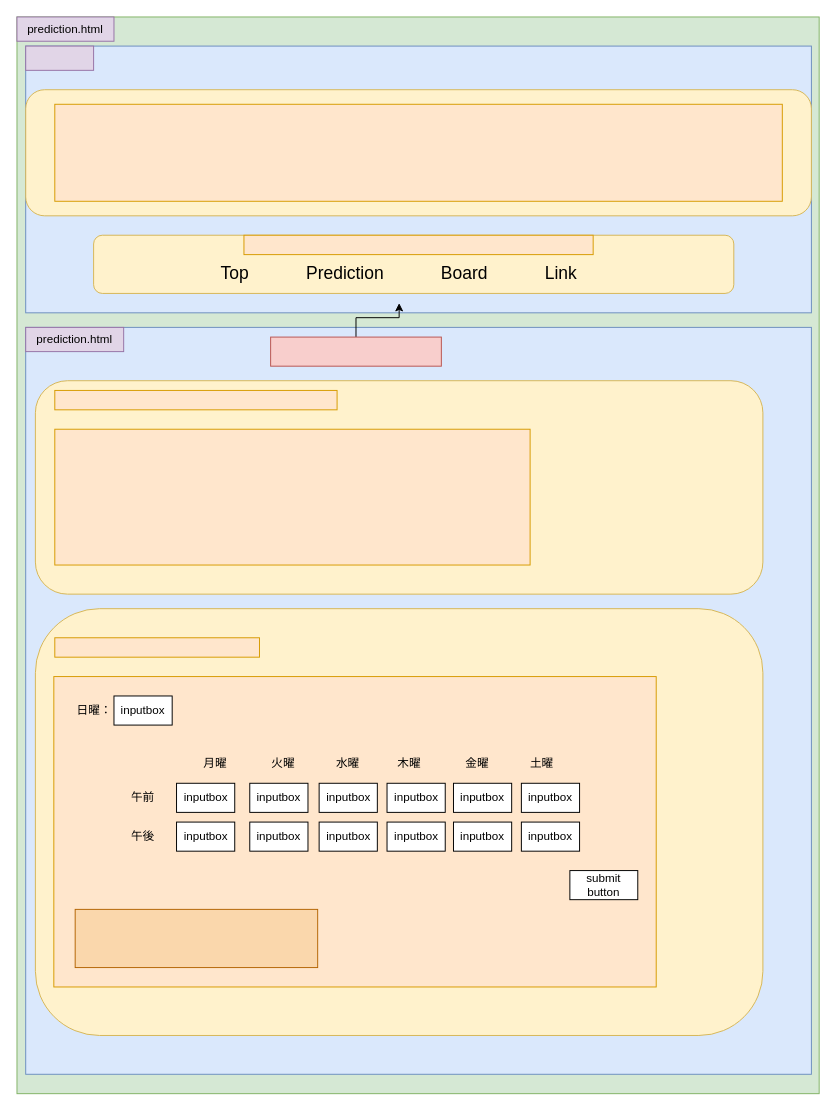
This 836x1111 diagram has some shape labels left out. Each missing label, with the box of its shape:
//views.pyから答えを受け取ったら出力 if ans != "" {{ans}} endif: (74, 908, 318, 968)
<h2> カブ価予測ページ</h2>: (54, 389, 337, 410)
<h2> 入力フォーム </h2>: (54, 637, 259, 657)
<h3> カブの値段変動パターン４種類と法則性についての説明 </h3> "説明文": (54, 428, 530, 565)
<header> <h1> <a href=index> <img> メインページへのリンク付きトップバナー </a> </h1> </header>: (54, 103, 782, 201)
base.html: (25, 45, 94, 70)
menubar(メインページ カブ価予測ページ 掲示板 リンク): (243, 234, 593, 255)
{{base.htmlを継承}}: (270, 336, 441, 366)
